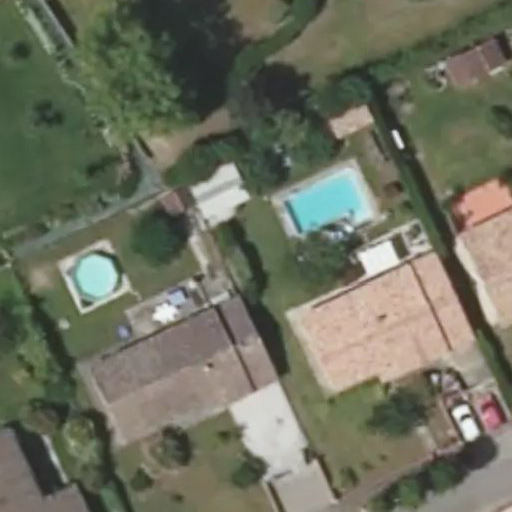pool: (230, 224, 281, 258)
